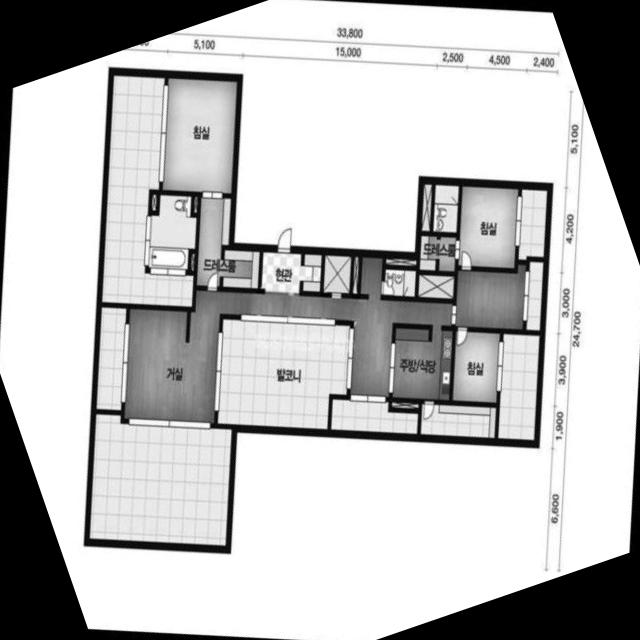background: (0, 0, 640, 640)
space_balconi: (101, 75, 192, 306), (88, 414, 230, 545), (217, 319, 349, 428), (497, 333, 539, 439), (95, 307, 125, 410), (330, 399, 417, 433), (419, 403, 495, 437), (517, 189, 546, 259), (525, 261, 542, 330)
space_bedroom: (161, 78, 236, 193), (458, 186, 517, 267), (451, 331, 499, 402)
space_dressroom: (195, 197, 259, 288), (418, 235, 455, 271)
space_front: (261, 252, 321, 295)
space_kitchen: (392, 327, 452, 400)
space_living_room: (123, 257, 452, 423)
space_other: (454, 264, 525, 329), (322, 255, 350, 293), (417, 274, 453, 298), (420, 184, 431, 231), (352, 256, 359, 293), (385, 258, 415, 265), (391, 402, 418, 409), (150, 194, 156, 210), (190, 253, 194, 270), (193, 196, 197, 212)
space_toilet: (148, 194, 195, 269), (432, 184, 458, 232), (383, 269, 415, 296)
